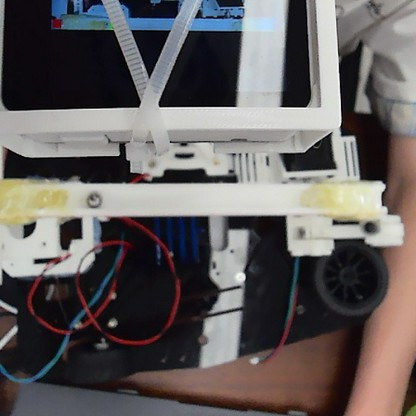ironball: (84, 187, 103, 210)
